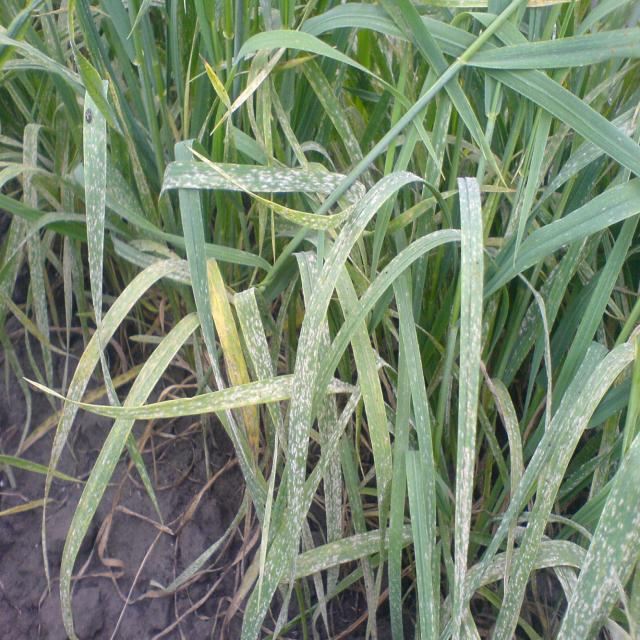wheat-powdery-mildew: (440, 177, 640, 640), (239, 169, 411, 640), (44, 259, 194, 496), (483, 343, 608, 556), (58, 419, 135, 640), (185, 144, 366, 231), (80, 374, 294, 419), (123, 312, 201, 405), (299, 58, 363, 164), (226, 411, 267, 532), (84, 119, 107, 330), (483, 379, 524, 494), (213, 161, 347, 194), (236, 289, 275, 381), (158, 161, 240, 201), (106, 154, 143, 217), (27, 231, 48, 341), (0, 246, 24, 315), (293, 250, 319, 309), (361, 557, 378, 639), (0, 216, 26, 268), (101, 358, 122, 406), (552, 566, 578, 604), (588, 458, 611, 495), (23, 123, 41, 168), (23, 169, 38, 212)
